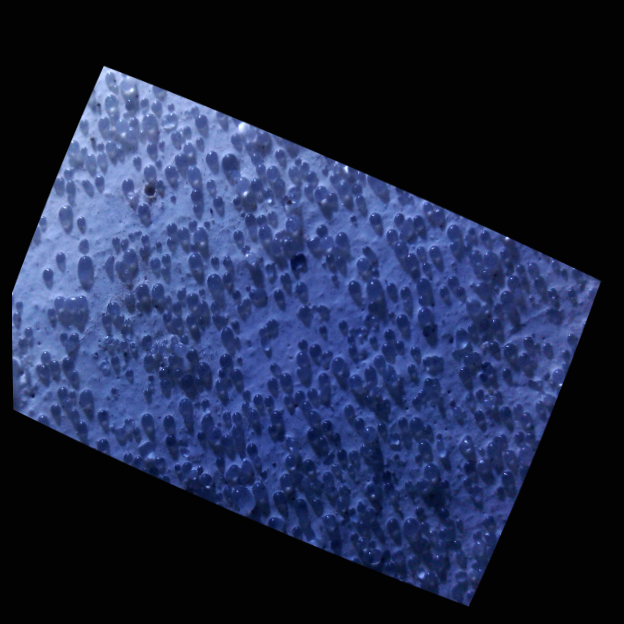GrassBeadSeg: (123, 77, 499, 453), (139, 101, 540, 410), (60, 182, 546, 409), (193, 138, 530, 451), (77, 253, 514, 482), (182, 112, 508, 415), (77, 131, 538, 342), (65, 181, 346, 510), (78, 253, 515, 460), (274, 146, 512, 514), (159, 114, 400, 439), (59, 203, 408, 426), (46, 151, 267, 494), (80, 236, 532, 401), (208, 162, 439, 474), (179, 124, 383, 476), (77, 137, 404, 347), (254, 160, 481, 460), (144, 250, 428, 487), (109, 199, 433, 406), (109, 190, 496, 362), (103, 101, 456, 286), (110, 272, 413, 486), (175, 193, 570, 356), (210, 194, 437, 477), (250, 265, 582, 458), (251, 251, 510, 496), (68, 154, 348, 371), (274, 169, 523, 411), (78, 135, 427, 305), (158, 364, 483, 546), (101, 284, 449, 452), (26, 207, 385, 364), (125, 122, 346, 375), (154, 160, 394, 389), (265, 164, 519, 378), (94, 173, 302, 424), (114, 234, 481, 370), (23, 324, 512, 426), (173, 322, 473, 485), (191, 152, 334, 482), (38, 213, 275, 404), (80, 177, 351, 340), (17, 104, 198, 345), (187, 217, 371, 453), (69, 137, 372, 279), (142, 165, 327, 396), (78, 118, 266, 343), (464, 286, 597, 598), (119, 338, 394, 488), (350, 181, 490, 471), (210, 213, 356, 485), (137, 200, 514, 299), (164, 266, 379, 439), (233, 228, 517, 355), (180, 265, 567, 357), (41, 165, 208, 374), (66, 178, 334, 305), (54, 277, 363, 385), (124, 236, 504, 323), (73, 228, 490, 307), (119, 78, 266, 300), (106, 164, 317, 312), (178, 230, 349, 410), (54, 249, 393, 338), (319, 172, 412, 487), (160, 139, 253, 434), (143, 162, 359, 289), (205, 176, 294, 484), (135, 154, 370, 270), (347, 276, 521, 430), (229, 247, 508, 339), (15, 194, 242, 307), (318, 285, 577, 382), (102, 262, 250, 425), (164, 153, 370, 265), (85, 326, 396, 400), (134, 149, 287, 296), (75, 214, 328, 300), (244, 212, 500, 293), (13, 145, 104, 370), (240, 349, 480, 433), (220, 212, 306, 444), (348, 448, 474, 599), (12, 243, 251, 320), (107, 112, 188, 339), (148, 221, 403, 293), (120, 177, 210, 374), (183, 135, 345, 244), (211, 261, 458, 331), (162, 362, 417, 426), (193, 225, 441, 290), (185, 274, 376, 358), (242, 299, 407, 396), (100, 129, 182, 322), (71, 201, 202, 319), (53, 108, 175, 232), (414, 389, 548, 489), (123, 225, 487, 260), (62, 234, 155, 363), (123, 247, 382, 293), (206, 233, 309, 348), (381, 213, 425, 479), (114, 220, 206, 342), (407, 194, 486, 336), (115, 273, 338, 322), (83, 224, 196, 319), (316, 365, 524, 416), (181, 251, 259, 384), (363, 362, 532, 422), (418, 306, 511, 414), (263, 366, 513, 405), (221, 151, 293, 282), (128, 116, 173, 319), (251, 150, 376, 223), (187, 175, 249, 309), (104, 93, 241, 142), (215, 469, 319, 533), (359, 183, 394, 353), (220, 224, 271, 339), (197, 452, 312, 503), (349, 505, 492, 546), (126, 300, 381, 322), (449, 225, 487, 366), (396, 275, 431, 427), (445, 222, 511, 302), (136, 440, 257, 483), (283, 192, 324, 310), (259, 236, 319, 314), (421, 308, 504, 364), (62, 349, 309, 367), (478, 316, 550, 377), (419, 519, 491, 577), (249, 228, 318, 288), (408, 434, 483, 486), (397, 193, 440, 277), (482, 259, 557, 306), (425, 518, 484, 576), (252, 316, 291, 403), (248, 384, 317, 433), (204, 175, 271, 224), (354, 516, 418, 566), (254, 165, 314, 218), (342, 402, 398, 458), (97, 97, 155, 151), (75, 408, 134, 461), (363, 481, 417, 531), (150, 253, 203, 303), (436, 386, 489, 436), (98, 71, 147, 125), (160, 291, 204, 350), (37, 359, 77, 423), (228, 435, 295, 473), (171, 360, 226, 406), (462, 430, 530, 467), (360, 506, 449, 534), (323, 464, 364, 524), (219, 318, 277, 359), (129, 419, 182, 463), (371, 211, 413, 266), (466, 241, 498, 307), (130, 339, 177, 382), (393, 197, 424, 261), (523, 335, 566, 381), (196, 400, 249, 437), (348, 376, 401, 413), (272, 278, 360, 298), (309, 462, 349, 505), (532, 307, 574, 346), (418, 388, 495, 409), (98, 109, 129, 156), (374, 371, 417, 401), (105, 117, 142, 150), (201, 367, 224, 419), (115, 230, 139, 278), (423, 376, 456, 410), (294, 388, 316, 438), (185, 149, 221, 179), (317, 419, 345, 456), (280, 365, 316, 392), (148, 352, 178, 383), (301, 393, 330, 424), (231, 367, 247, 421), (408, 415, 440, 442), (139, 235, 174, 259), (527, 274, 548, 312), (198, 287, 218, 321), (56, 385, 77, 416), (222, 270, 249, 294), (348, 326, 376, 349), (543, 367, 562, 398), (130, 126, 156, 148), (218, 353, 240, 377), (140, 98, 161, 123), (257, 128, 269, 140), (419, 314, 430, 320), (347, 346, 353, 351)
